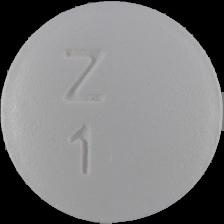68084-344: (0, 0, 224, 224)
